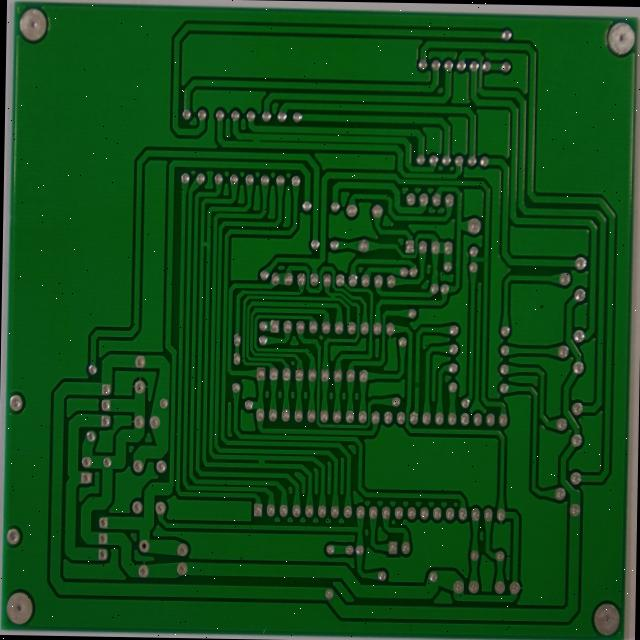short: (461, 263, 481, 285), (232, 139, 248, 157), (237, 479, 251, 495), (180, 249, 193, 264), (314, 308, 324, 318)
